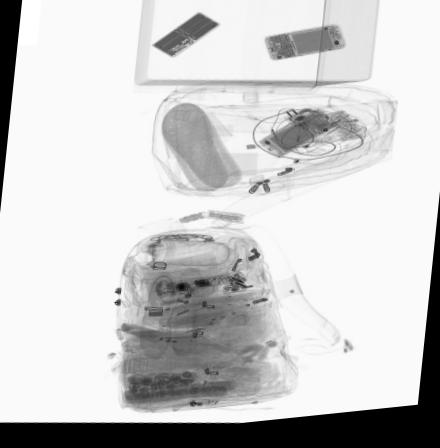Powerbank: (260, 114, 337, 163), (151, 15, 219, 61)
